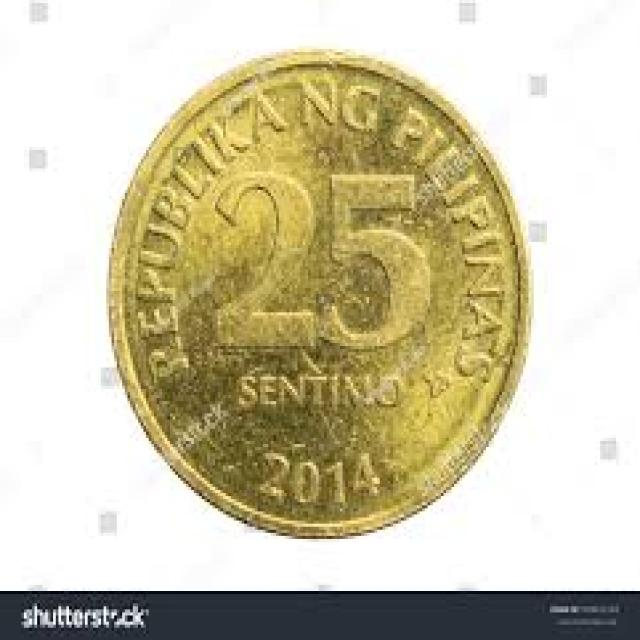25 cents-old: (103, 43, 540, 549)
